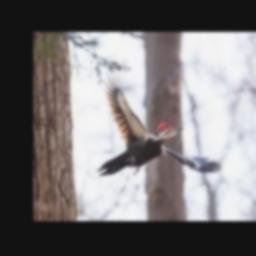Woodpecker: (97, 71, 222, 175)
